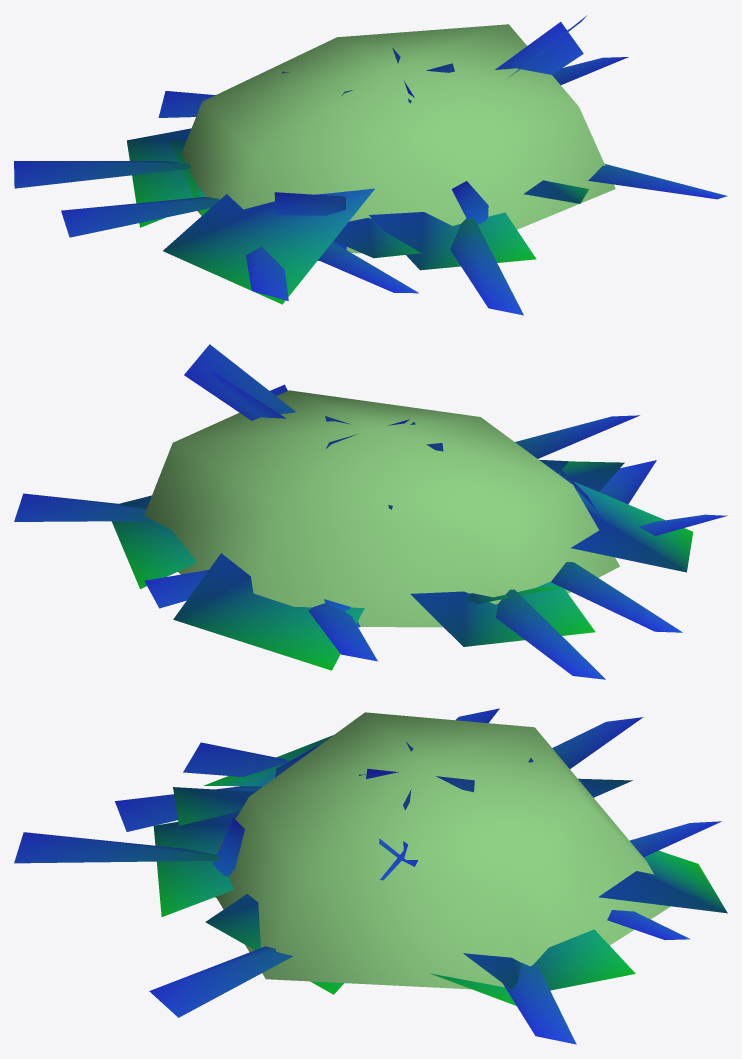
The model's file is vine_bush_wide.dae.
3 views of the same model, one above another, from view 1: azimuth 30°, elevation 25°; view 2: azimuth 150°, elevation 25°; view 3: azimuth 270°, elevation 25° (orthographic). The views are drawn at different scales.
Parts seen in each view (by area): view 1: colmesh_vine_bush_wide-1, vine_bush_wide_a60, vine_bush_wide_a250, vine_bush_wide_a130; view 2: colmesh_vine_bush_wide-1, vine_bush_wide_a60, vine_bush_wide_a250, vine_bush_wide_a130; view 3: colmesh_vine_bush_wide-1, vine_bush_wide_a250, vine_bush_wide_a60, vine_bush_wide_a130.
Boxes of the visible parts, x1=… form: colmesh_vine_bush_wide-1: x1=181, y1=24, x2=615, y2=253; vine_bush_wide_a60: x1=126, y1=48, x2=589, y2=304; vine_bush_wide_a250: x1=158, y1=15, x2=727, y2=315; vine_bush_wide_a130: x1=14, y1=22, x2=716, y2=237; colmesh_vine_bush_wide-1: x1=144, y1=390, x2=619, y2=627; vine_bush_wide_a60: x1=111, y1=416, x2=693, y2=670; vine_bush_wide_a250: x1=14, y1=344, x2=727, y2=661; vine_bush_wide_a130: x1=26, y1=371, x2=682, y2=679; colmesh_vine_bush_wide-1: x1=216, y1=712, x2=670, y2=989; vine_bush_wide_a250: x1=14, y1=742, x2=721, y2=1044; vine_bush_wide_a60: x1=153, y1=735, x2=727, y2=994; vine_bush_wide_a130: x1=153, y1=708, x2=643, y2=1035.
Bounding box in the file's own units: 3.91 × 3.54 × 0.9221.
